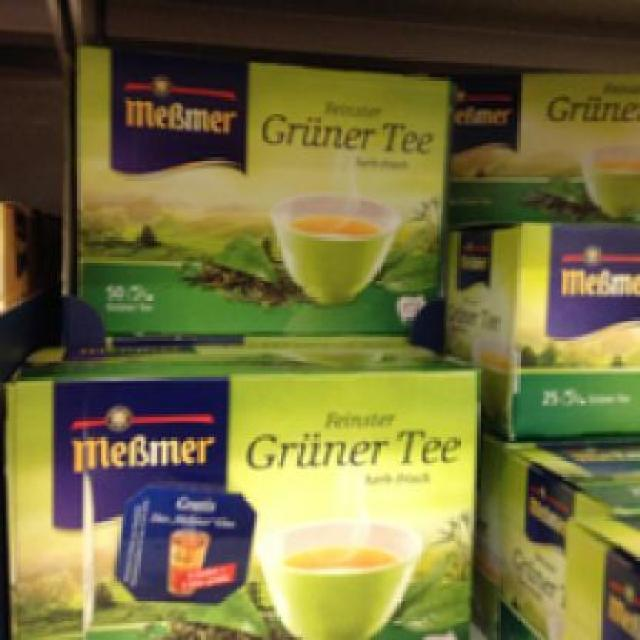Tea: (0, 341, 475, 638), (69, 40, 452, 340)
